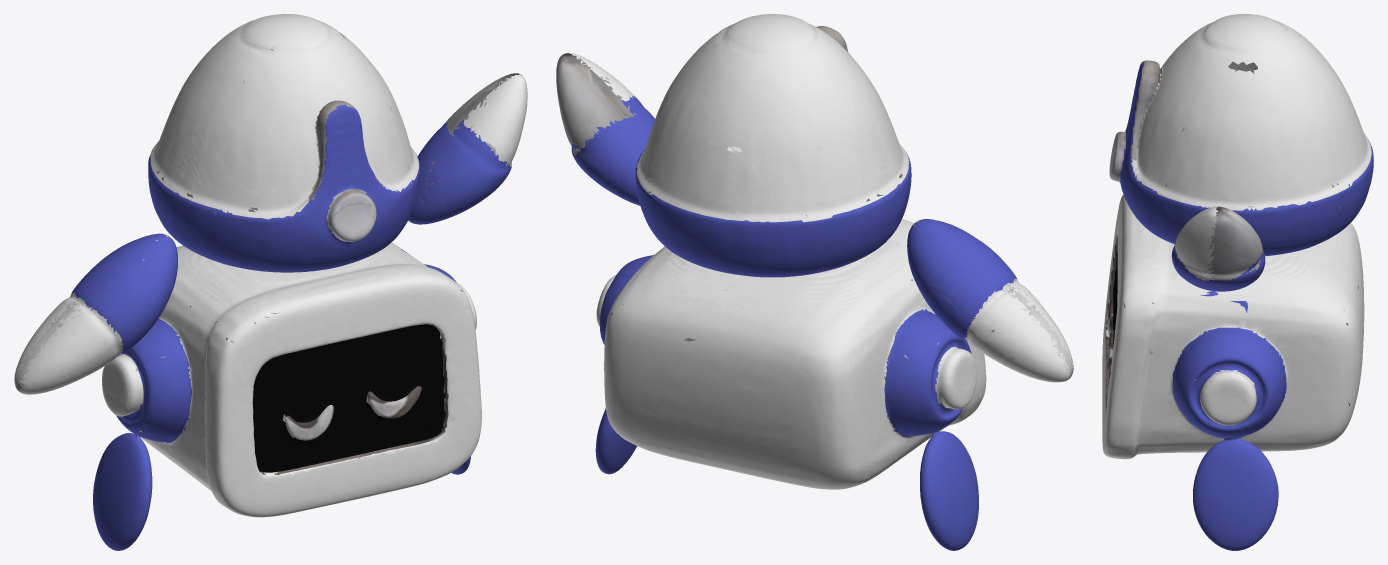
File: bot.glb
3 renders of one model, left to right at view 1: azimuth 30°, elevation 25°; view 2: azimuth 150°, elevation 25°; view 3: azimuth 270°, elevation 25°, orthographic. The views are drawn at different scales.
Parts seen in each view (by area): view 1: Mesh_0; view 2: Mesh_0; view 3: Mesh_0.
Boxes of the visible parts, <box> form: Mesh_0: <box>14,14,527,550</box>; Mesh_0: <box>556,14,1073,550</box>; Mesh_0: <box>1102,14,1373,550</box>.
Bounding box in the file's own units: 1.24 × 1.13 × 0.6146.
4 materials, 1 textured.
